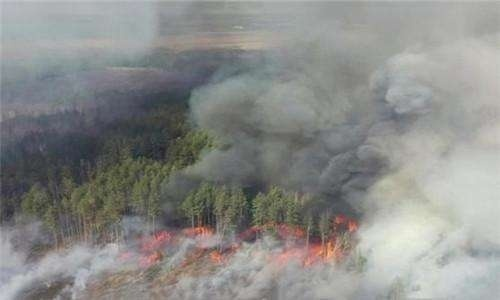fire: (125, 220, 358, 270)
